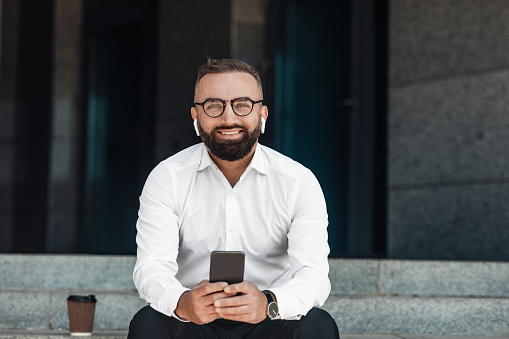earphone: (189, 107, 200, 131), (259, 106, 268, 129)
